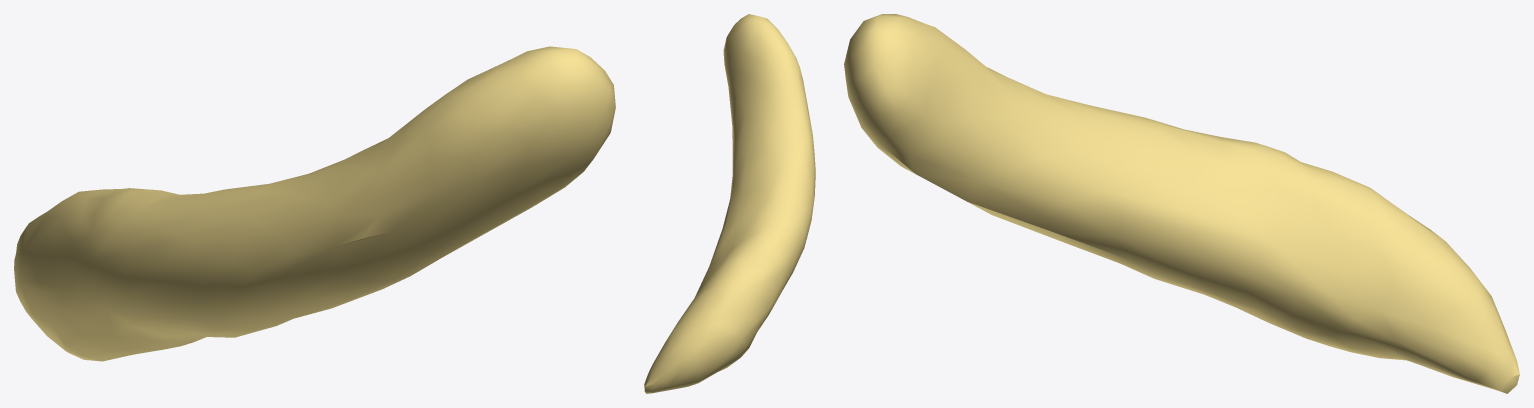
The model's file is fma73471_mm3558m.glb.
3 views of the same model, side by side, from view 1: azimuth 30°, elevation 25°; view 2: azimuth 150°, elevation 25°; view 3: azimuth 270°, elevation 25° (orthographic). The views are drawn at different scales.
Parts seen in each view (by area): view 1: FMA73471_MM3558M; view 2: FMA73471_MM3558M; view 3: FMA73471_MM3558M.
Part boxes in pixels (box(x1,y1,x2,y2)): FMA73471_MM3558M: box(14, 46, 615, 361); FMA73471_MM3558M: box(644, 14, 815, 393); FMA73471_MM3558M: box(844, 14, 1519, 393).
Bounding box in the file's own units: 0.00154 × 0.00218 × 0.0031.
